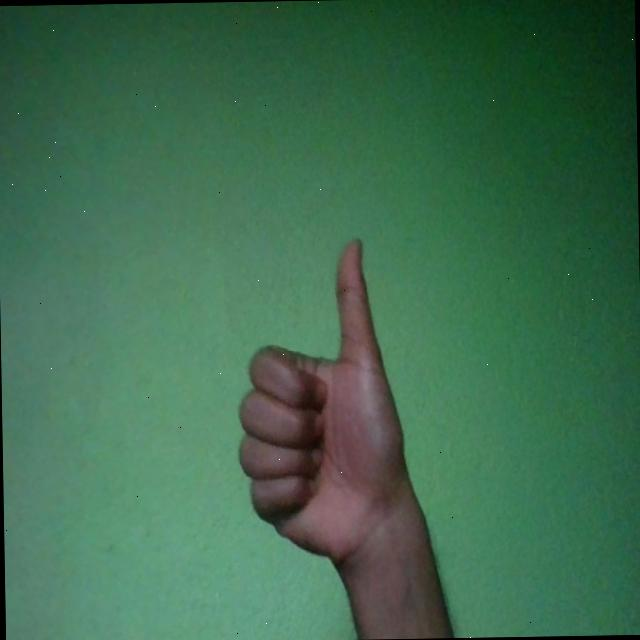Good Job: (233, 235, 408, 578)
